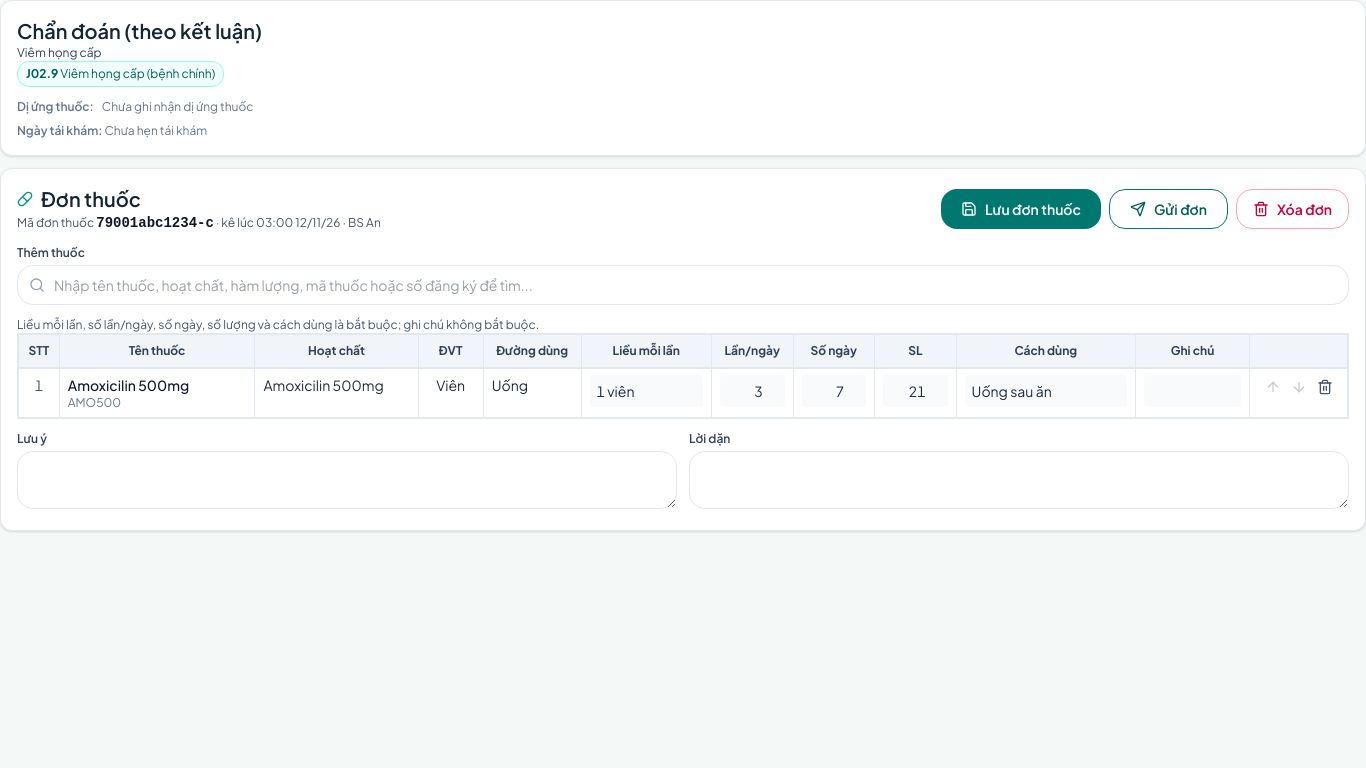
Test: PrescriptionPanel (UC-59 AF-03 Xóa đơn thuốc) › keeps the prescription when the Doctor cancels the confirmation
This screenshot has width=1366, height=768.
Click the button "Xóa đơn" at (1292, 209), box left=1236, top=189, right=1349, bottom=229
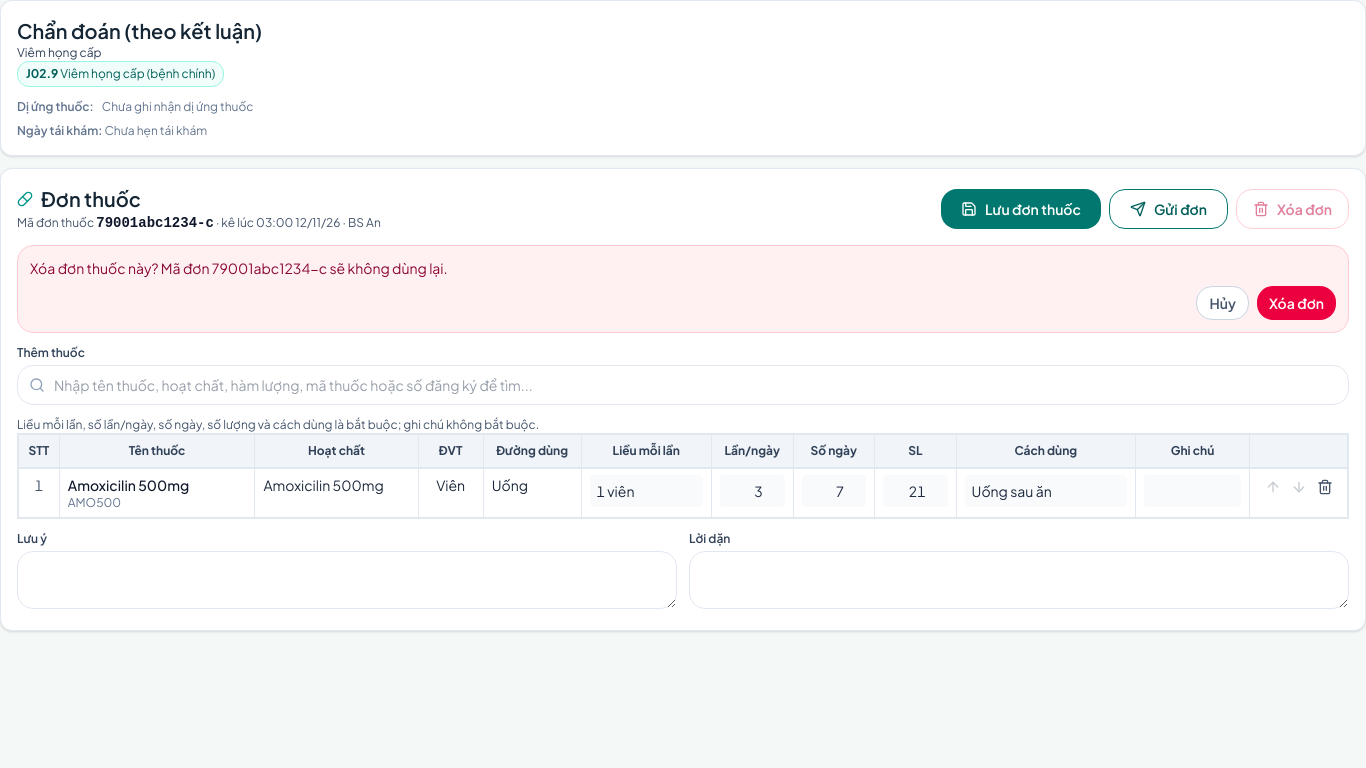
Click the button "Hủy" at (1223, 303), box left=1196, top=286, right=1249, bottom=320
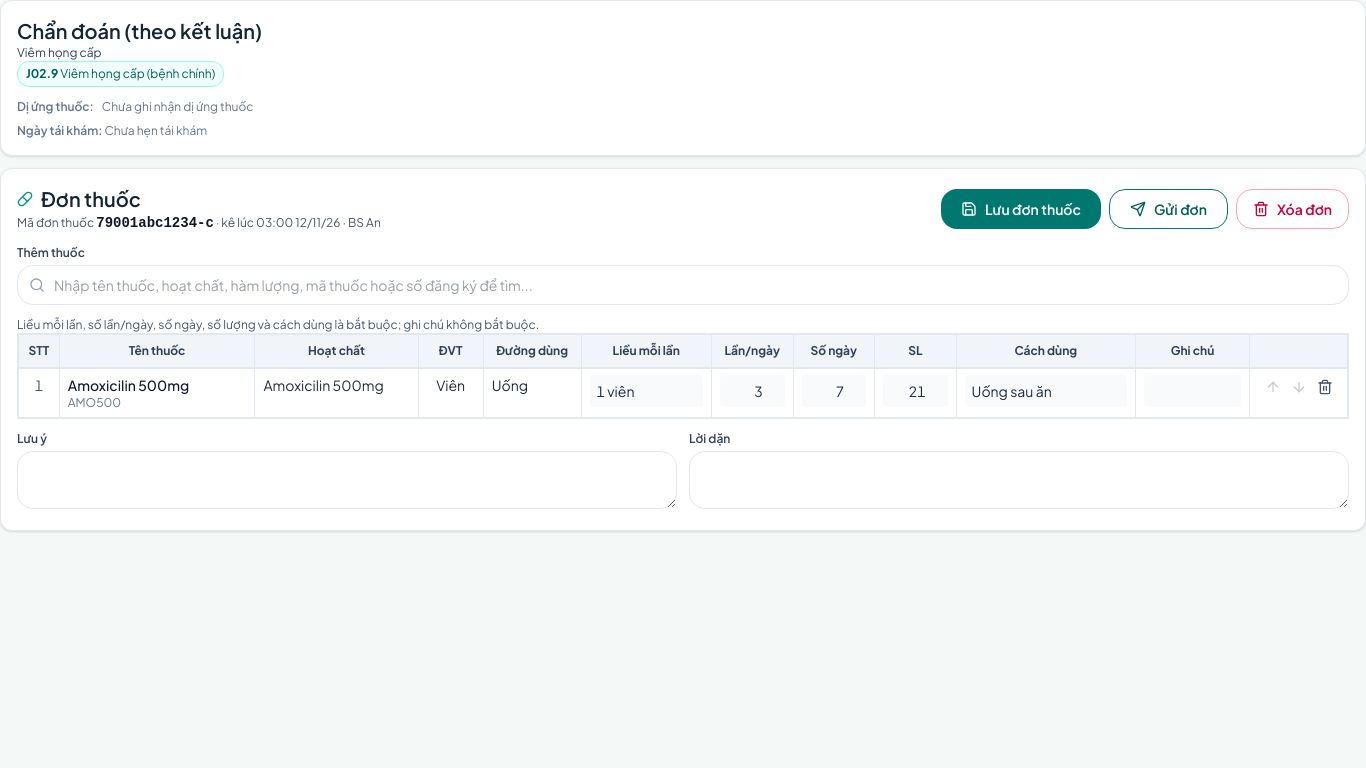
Expected: the dialog is gone
